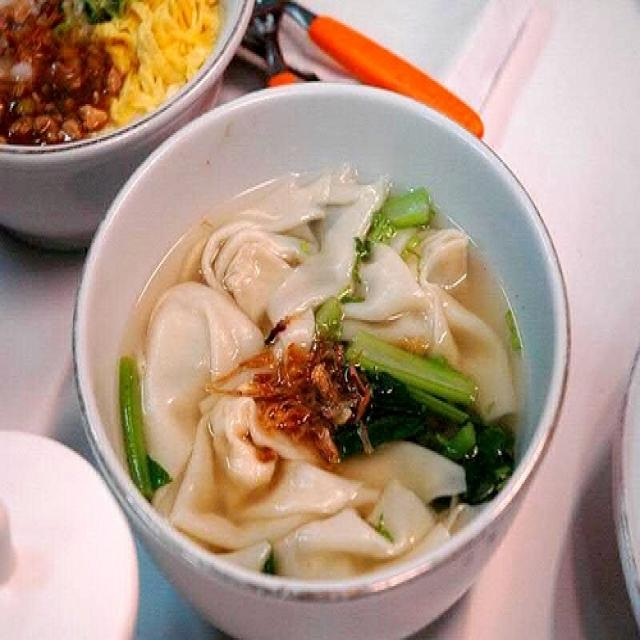汤锅炖物: (62, 60, 570, 601)
